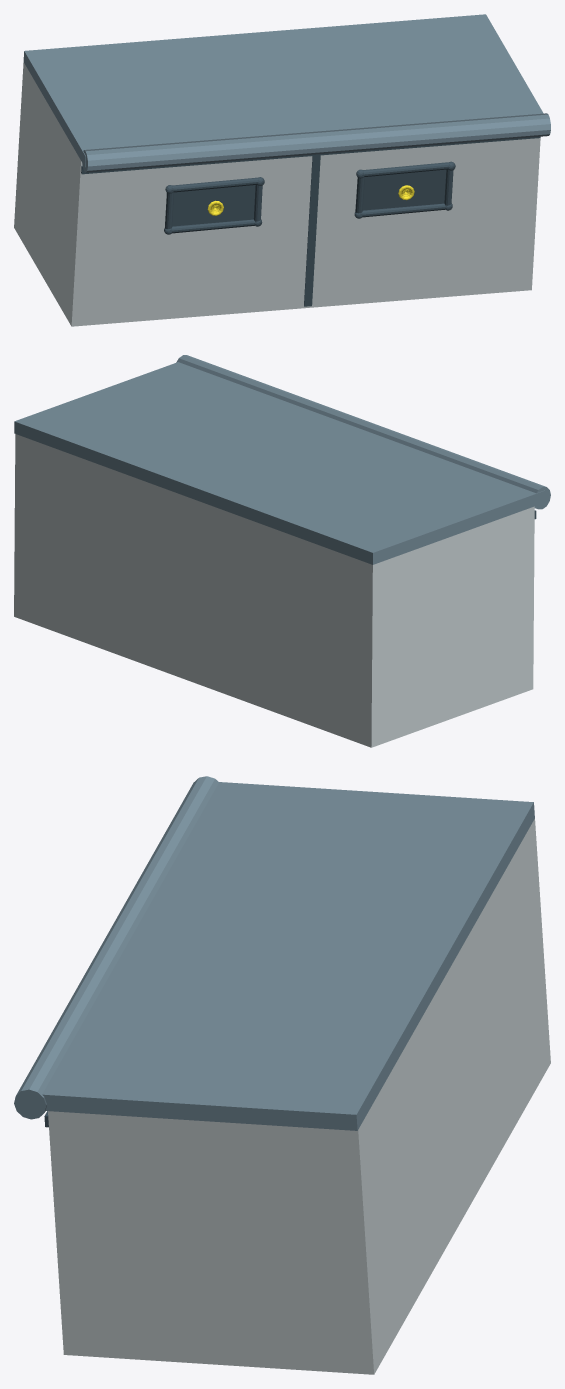
File: Lab Desk.glb
The picture shows the model from 3 angles, top to bottom: view 1: azimuth 30°, elevation 25°; view 2: azimuth 150°, elevation 25°; view 3: azimuth 270°, elevation 25°; orthographic projection. The views are drawn at different scales.
Visible parts, largest first — view 1: Node; view 2: Node; view 3: Node.
Boxes of the visible parts, x1,y1,x2,y2 form: Node: [14, 14, 550, 326]; Node: [14, 355, 550, 747]; Node: [14, 776, 550, 1374].
Bounding box in the file's own units: 2.53 × 1.1 × 1.76.
